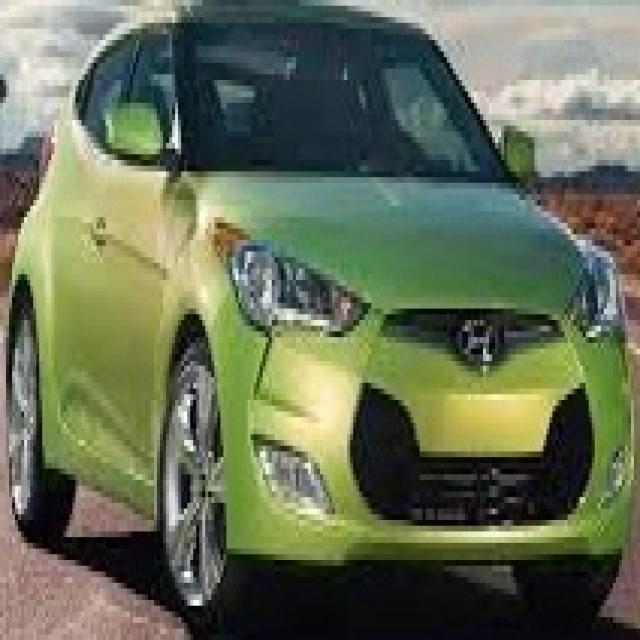green: (5, 10, 640, 554)
